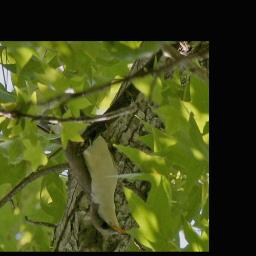Cuckoo: (36, 103, 132, 239)
